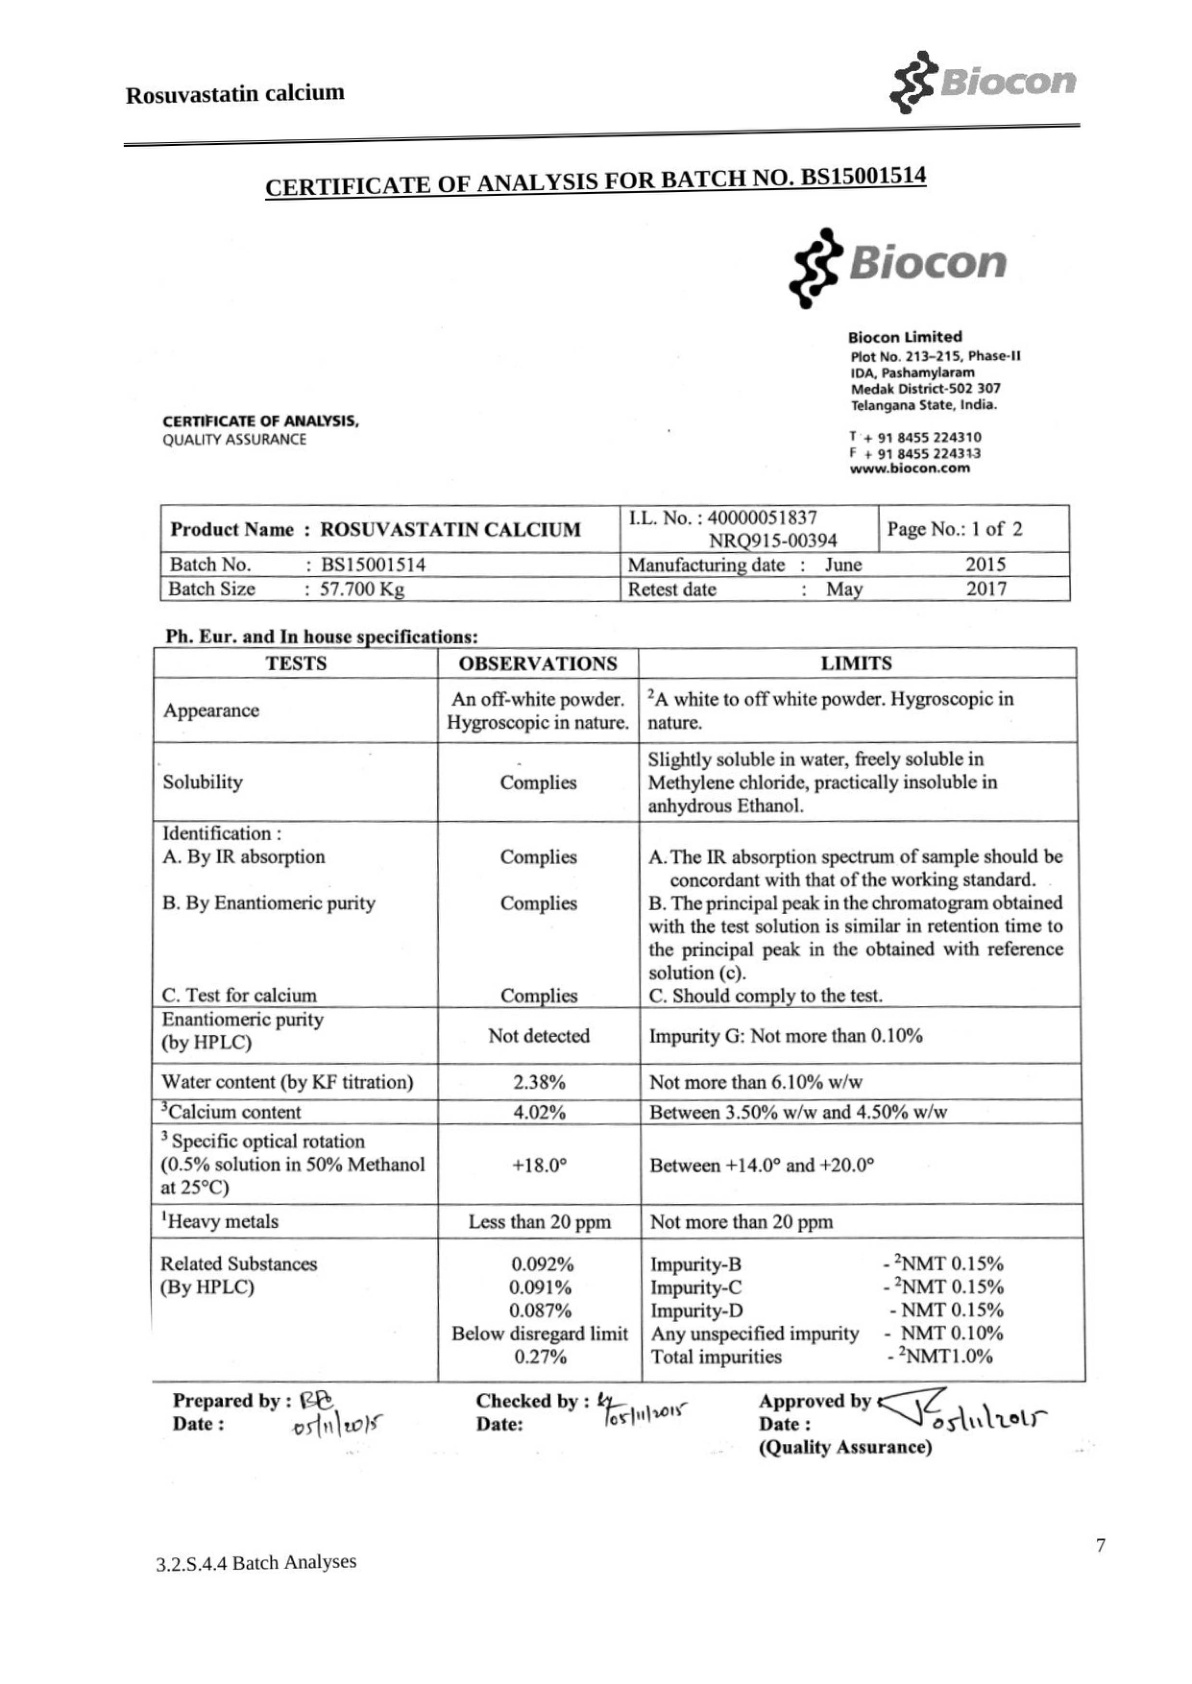full_lined: (151, 646, 1088, 1384)
merged_cells: (157, 502, 1071, 603)
